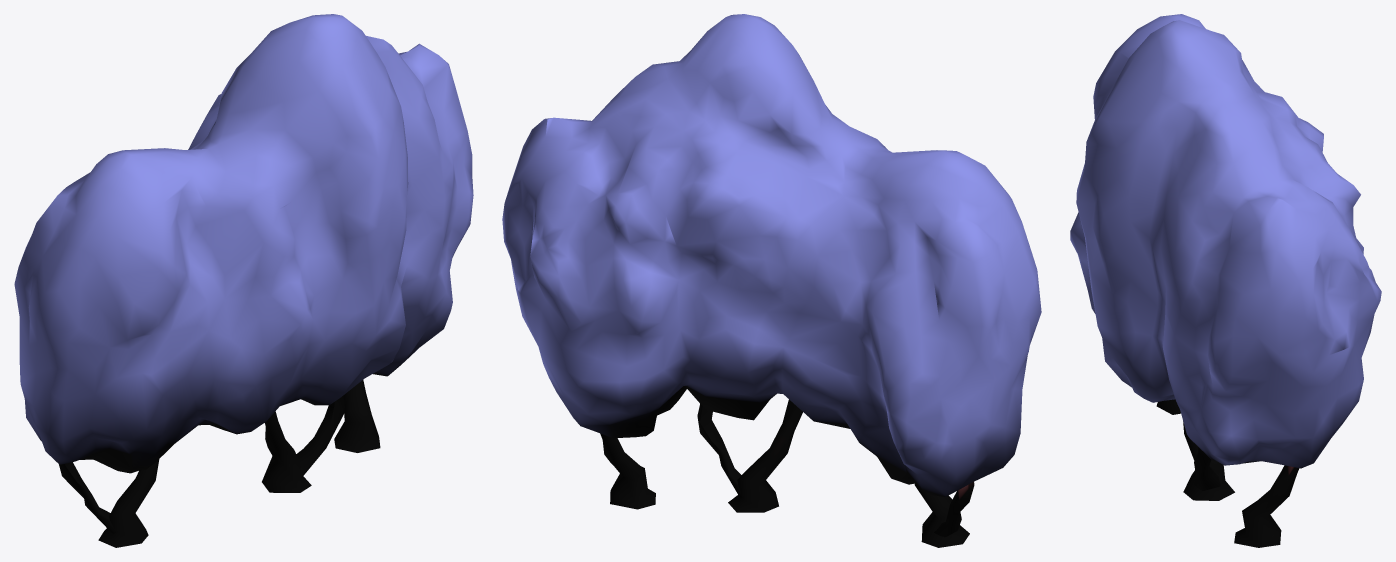
Rendered from GeoBush02.fbx.
3 views of the same model, side by side, from view 1: azimuth 30°, elevation 25°; view 2: azimuth 150°, elevation 25°; view 3: azimuth 270°, elevation 25° (orthographic).
Parts seen in each view (by area): view 1: GeoBush02_LOD0; view 2: GeoBush02_LOD0; view 3: GeoBush02_LOD0.
Boxes of the visible parts, box(x1,y1,x2,y2) form: GeoBush02_LOD0: box(14, 14, 473, 547); GeoBush02_LOD0: box(502, 14, 1041, 547); GeoBush02_LOD0: box(1070, 14, 1381, 547).
Size of what is drawn, in the model's own units: 114 by 111 by 65.29.
